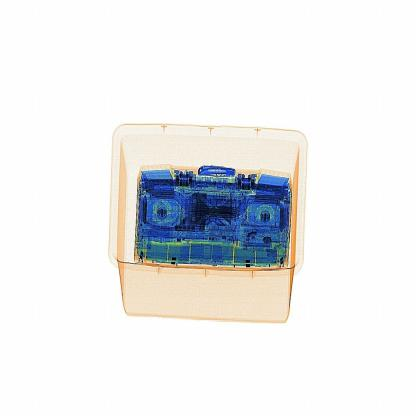knife: (192, 156, 240, 185)
